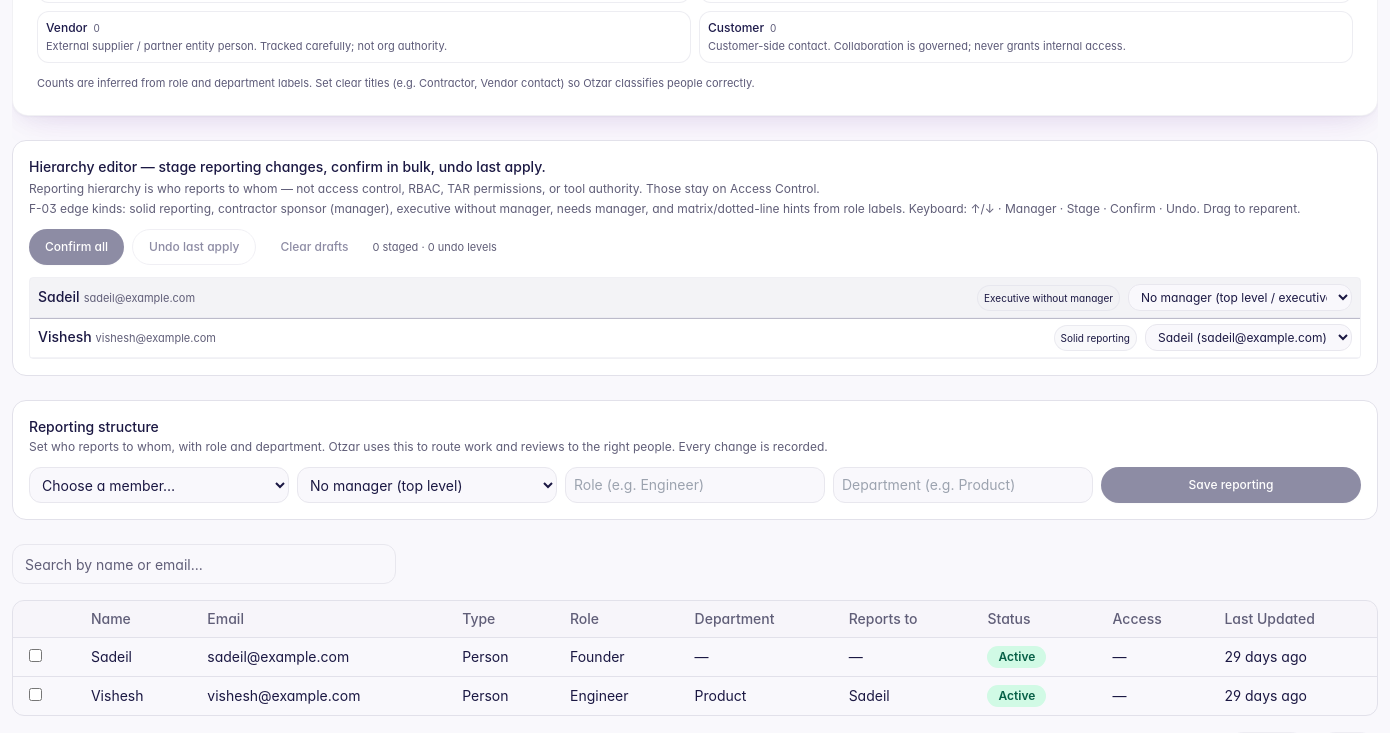
Test: Members — reporting structure editor (PROD-UX-HIER) › a cycle refusal reads as a human sentence, not a code
This screenshot has width=1390, height=733.
(page scrolled)
Expected: the element with test id "reporting-card" is shown, [12,400,1378,520]
Expected: the text "Engineer" is shown, [554,676,679,715]
Select "Sadeil (sadeil@example.com)" in the dropdown with test id "reporting-person-select" at (159, 485), box [29,467,289,503]
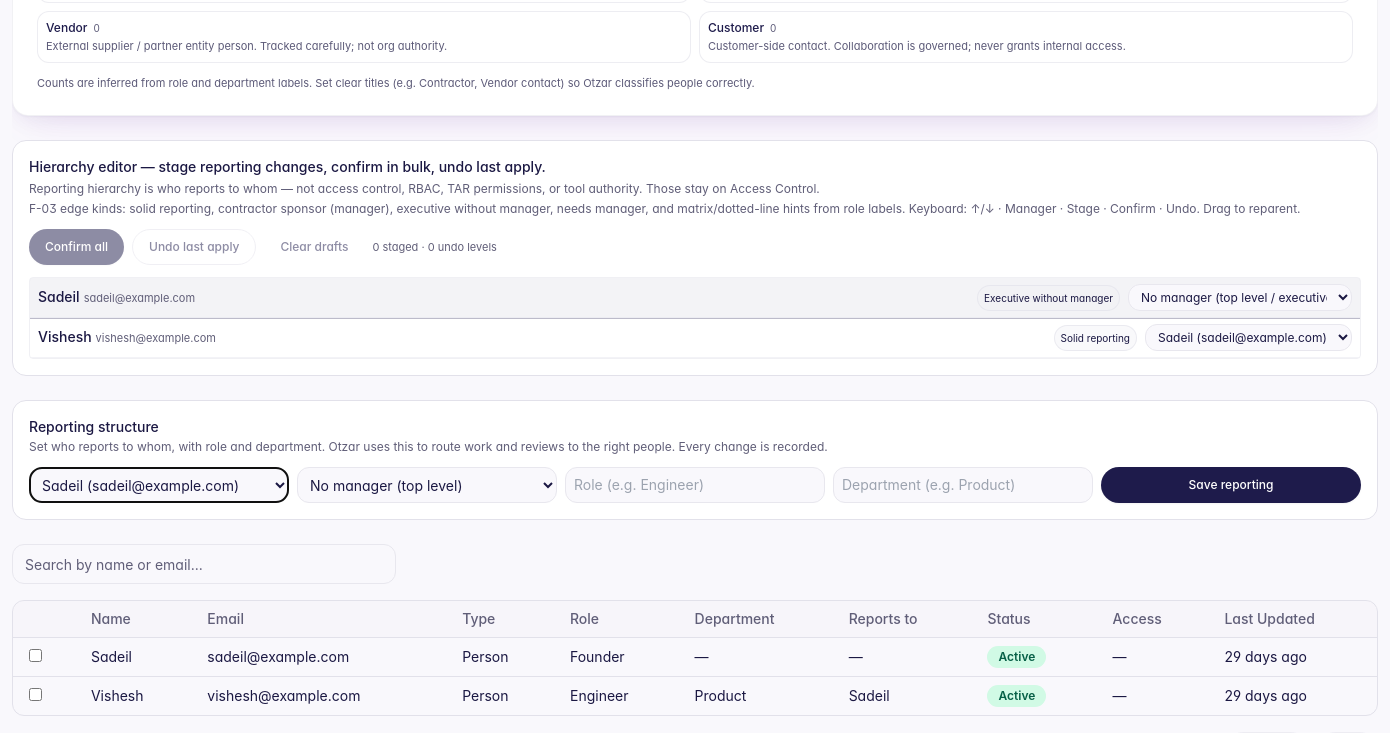
Select "Vishesh (vishesh@example.com)" in the dropdown with test id "reporting-manager-select" at (427, 485), box [297,467,557,503]
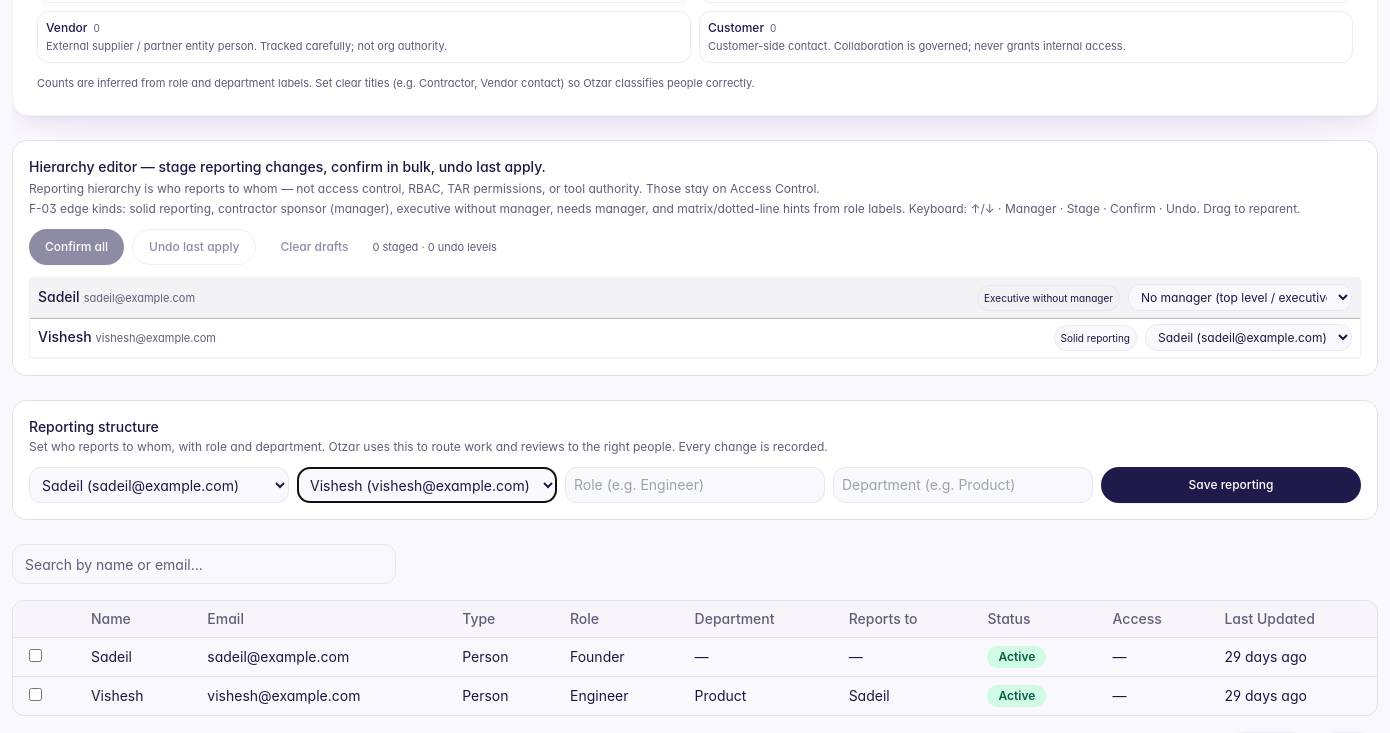
Click the button with test id "reporting-assign" at (1231, 485), box [1101,467,1361,503]
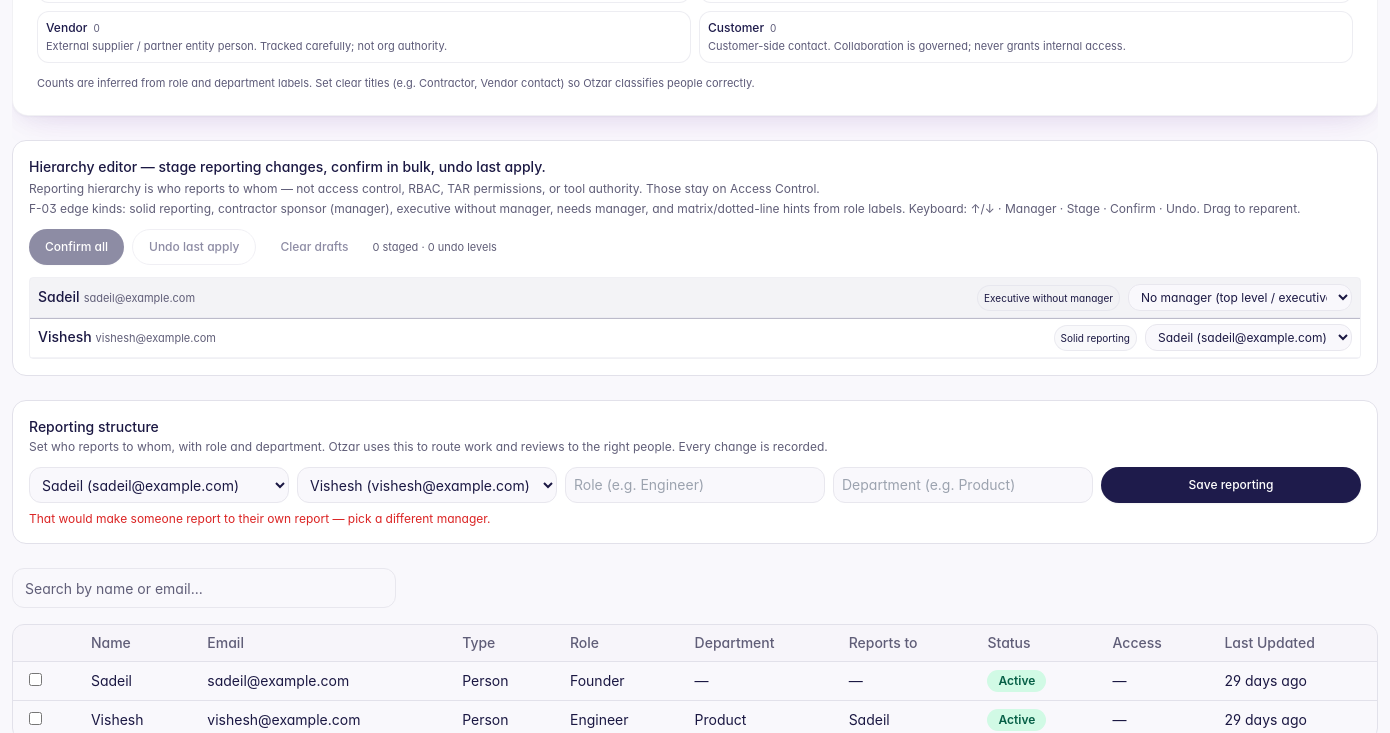
Expected: the text with test id "reporting-notice" does not show "CYCLE", [29,511,490,526]
Result: the text with test id "reporting-notice" shows "report to their own report" at [29,511,490,526]
